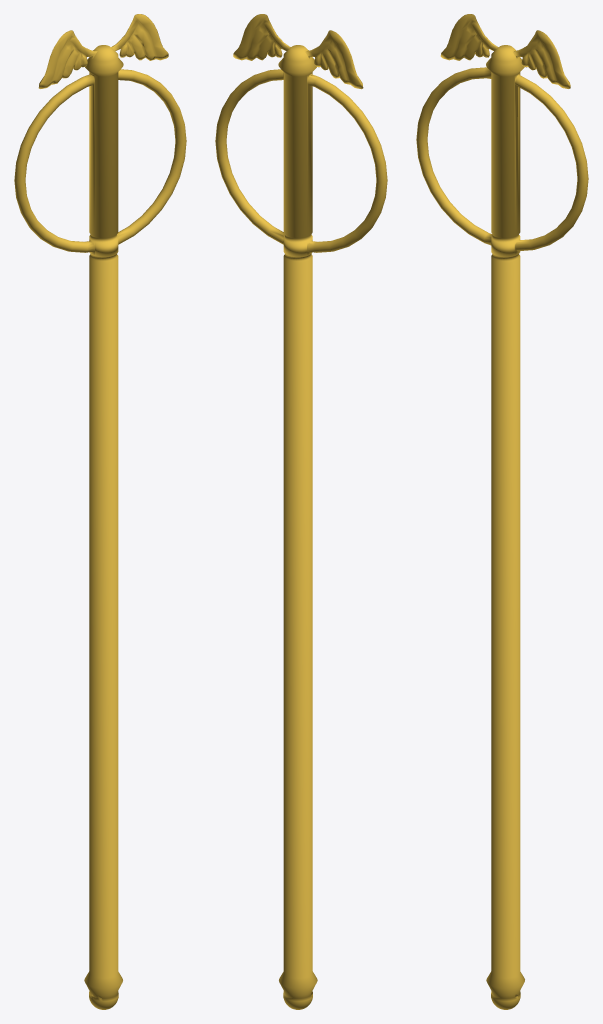
File: AD_Staff.fbx
The picture shows the model from 3 angles, left to right: view 1: azimuth 30°, elevation 25°; view 2: azimuth 150°, elevation 25°; view 3: azimuth 330°, elevation 25°; orthographic projection.
Parts seen in each view (by area): view 1: A_Staff; view 2: A_Staff; view 3: A_Staff.
Part boxes in pixels (x1,y1,x2,y2): A_Staff: (14,14,186,1009); A_Staff: (215,14,387,1009); A_Staff: (416,14,588,1009).
Size of the model in its own units: 29.2 by 161 by 5.87.
